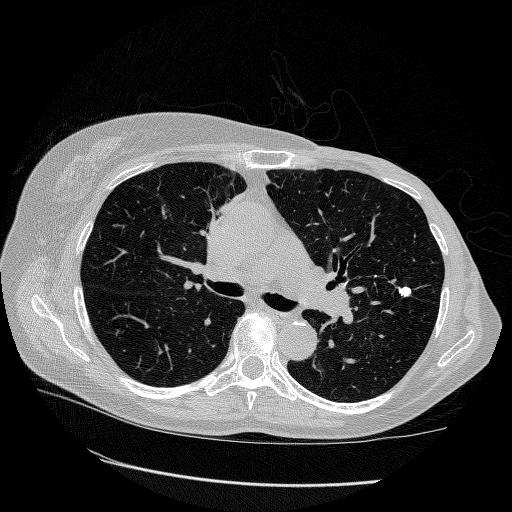nodule: (397, 284, 413, 300)
